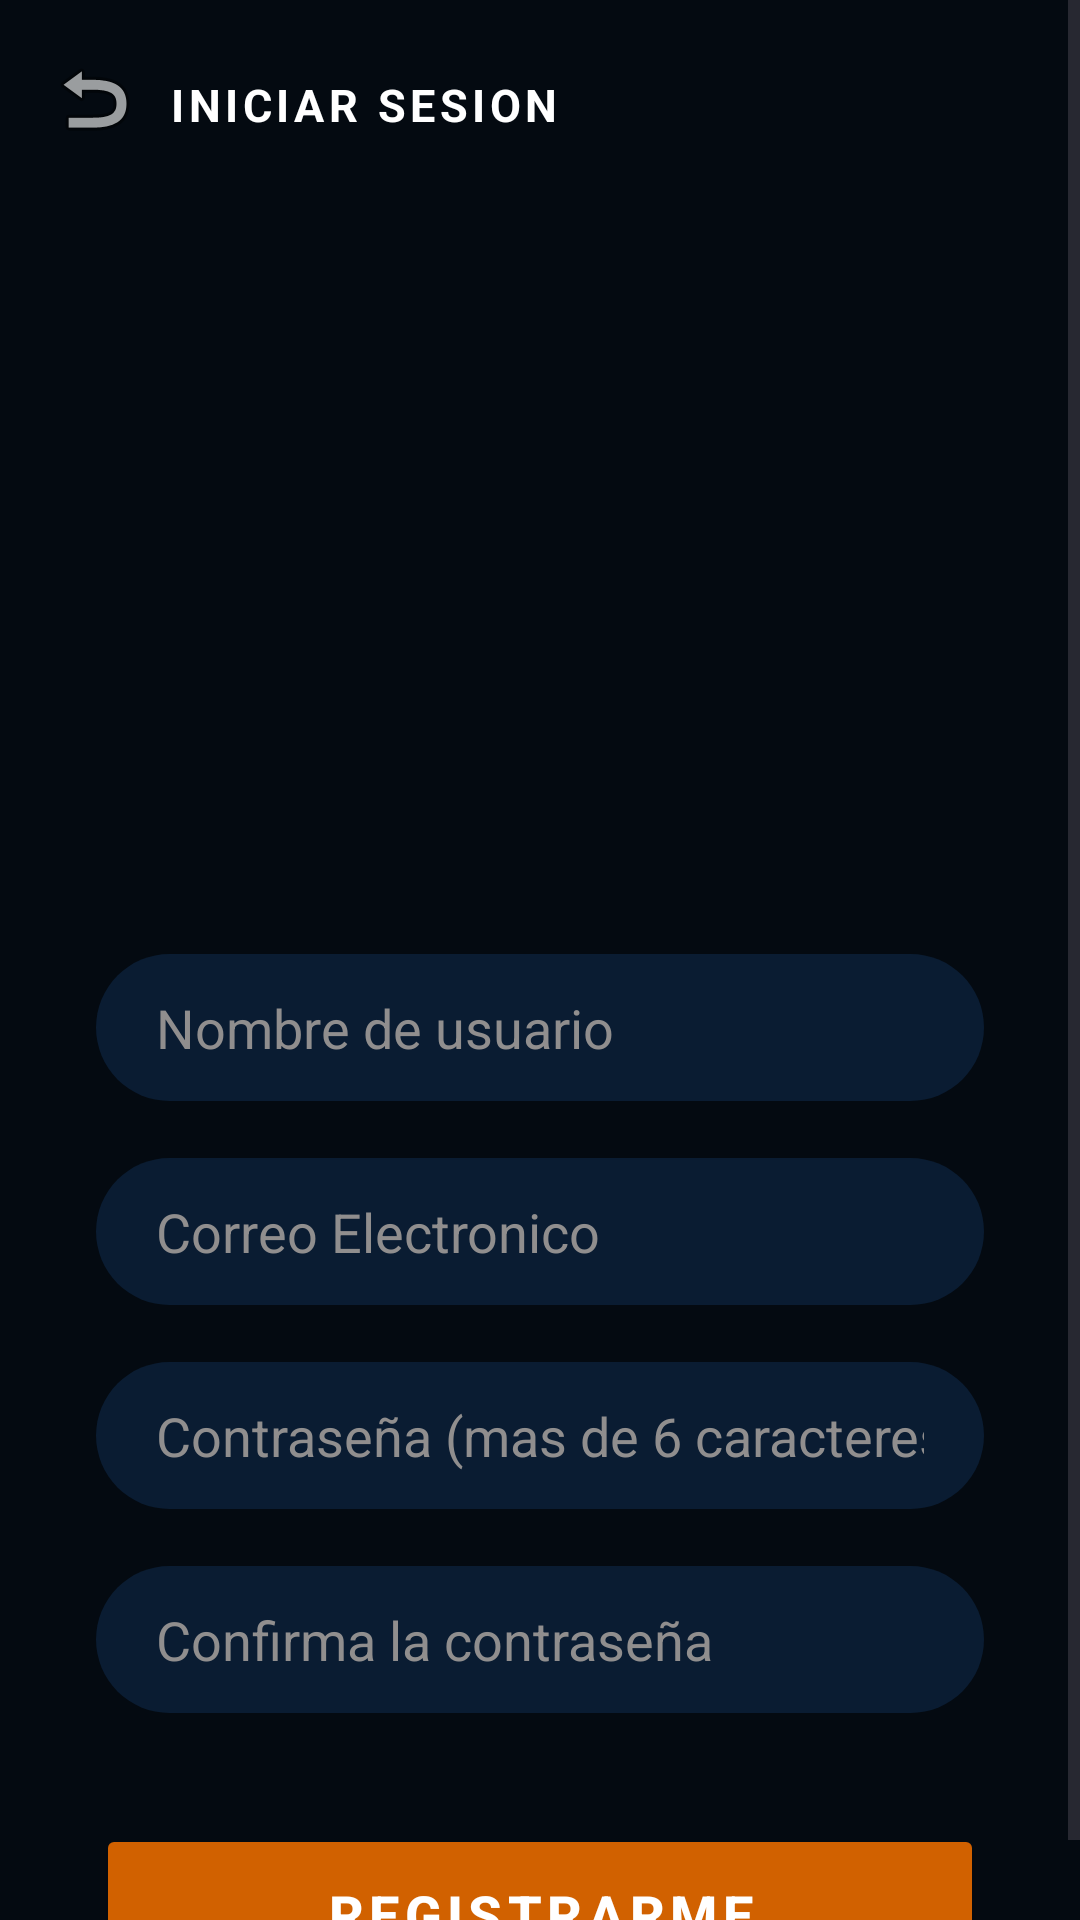

Where to tap for icons on this 1080×1920 app screen, as [x,y]:
Boton para regresar a login: [95,99]
